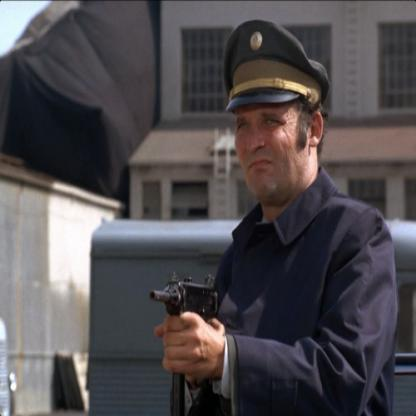Gun: (145, 270, 226, 415)
